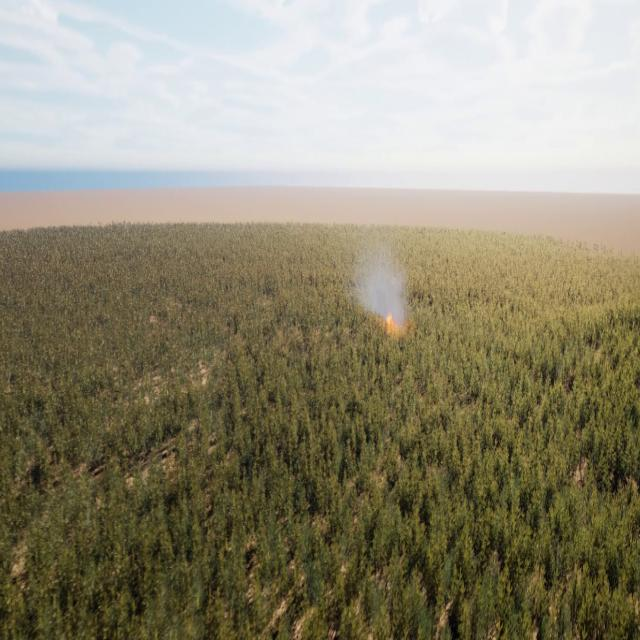fire: (385, 314, 402, 331)
smoke: (354, 248, 414, 335)
